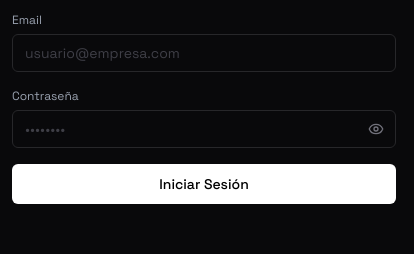
Scenario: LoginForm › valida el email y la contraseña al enviar vacío
This screenshot has width=414, height=254.
Click the button "Iniciar Sesión". click: [204, 184]
box: [12,164,396,204]
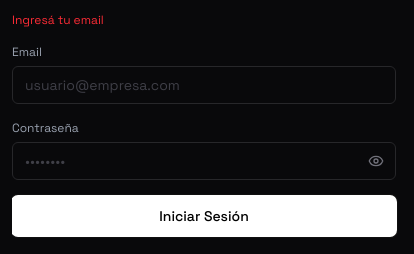
Now the text "Ingresá tu email" is shown, box [12,12,104,28]
